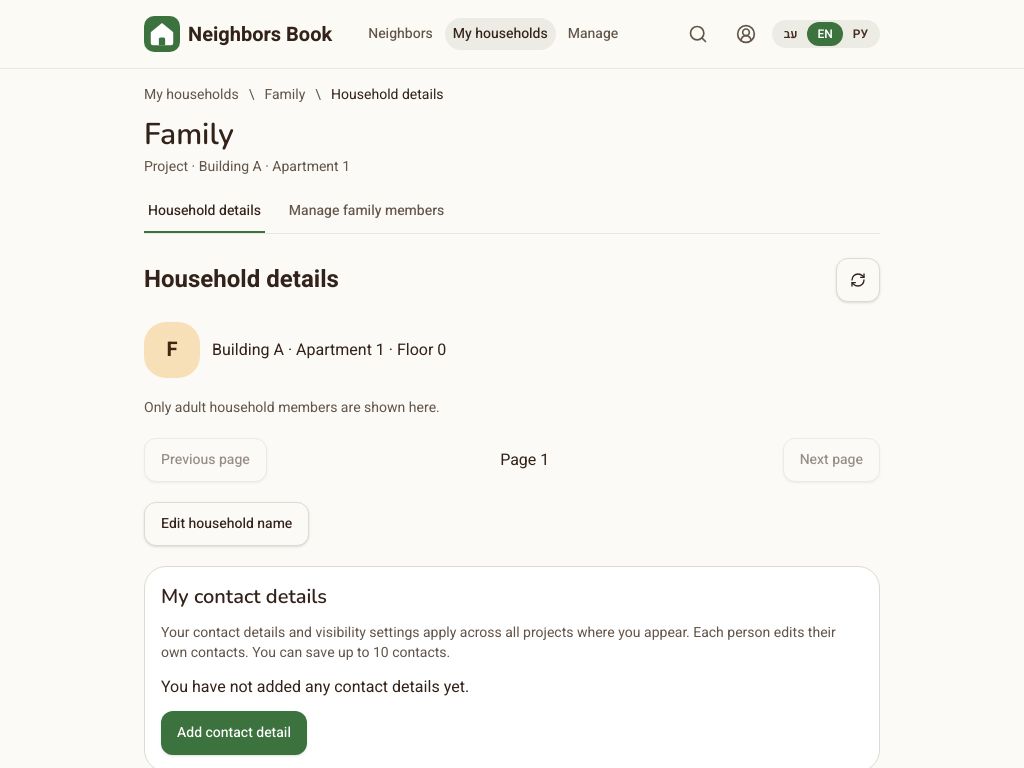
shares the detail read and updates the persistent heading after a successful rename
Expected: the number of headings "Family" is 1, [144,114,234,155]
Click the button "Edit household name".
click(227, 524)  # box [144,502,309,546]
(page scrolled)
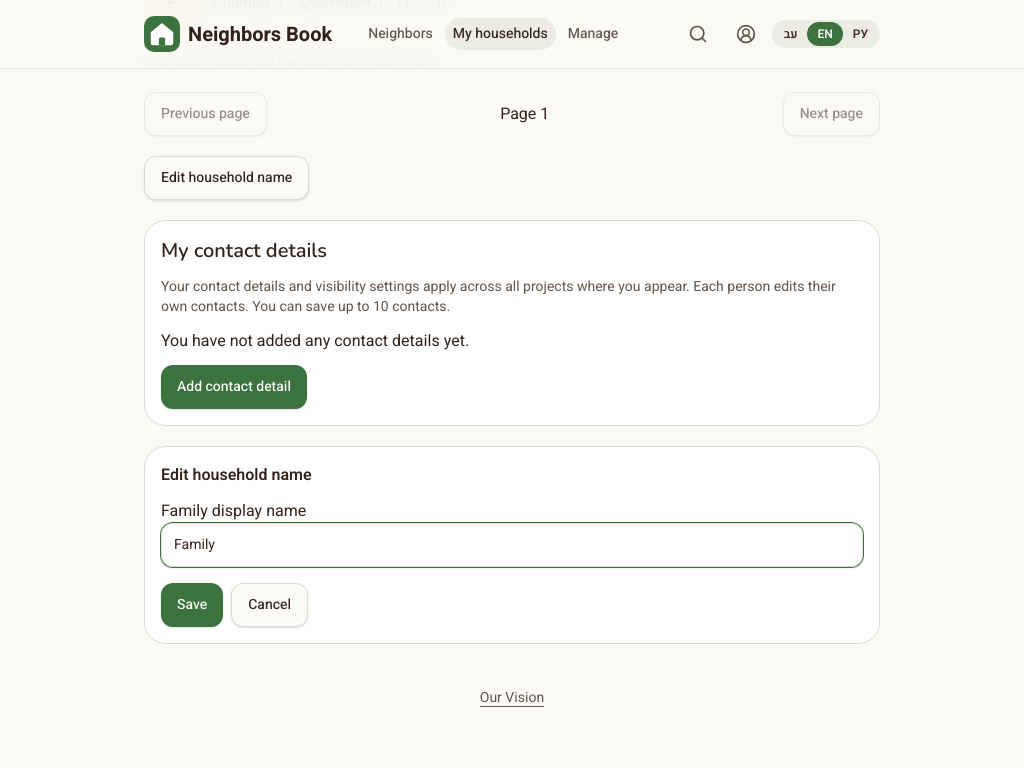
Replace the text in the field with "Updated family" at (512, 545), box [161,523,863,567]
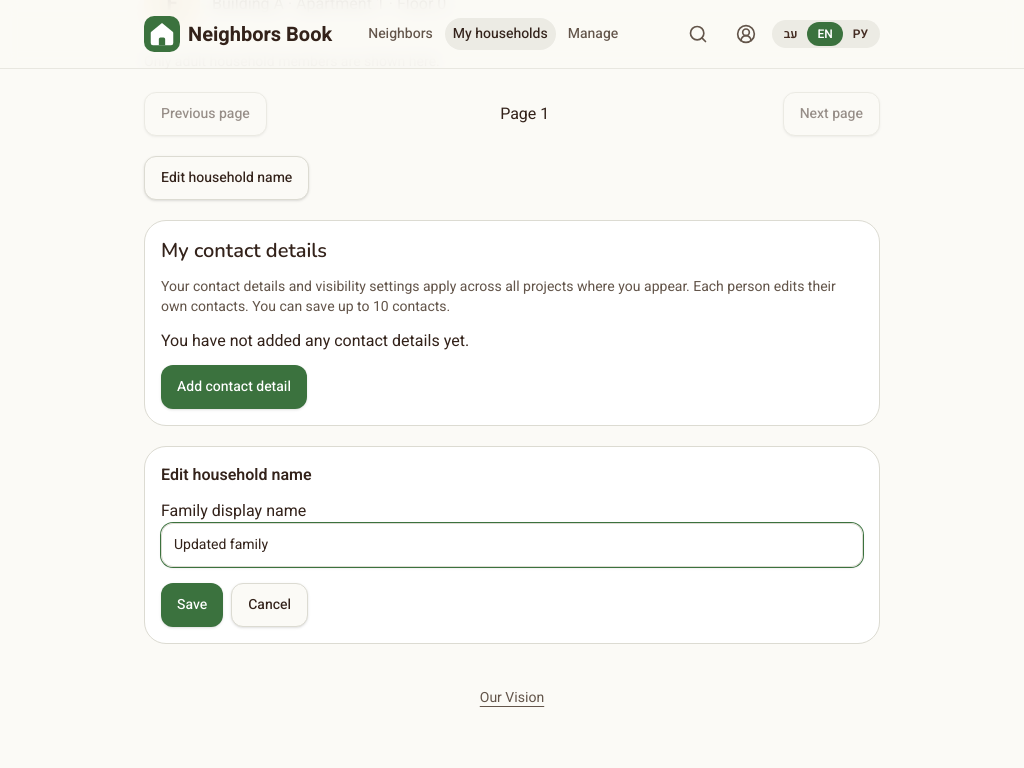
Click the button "Save".
click(192, 605)  # box [161,583,223,627]
(page scrolled)
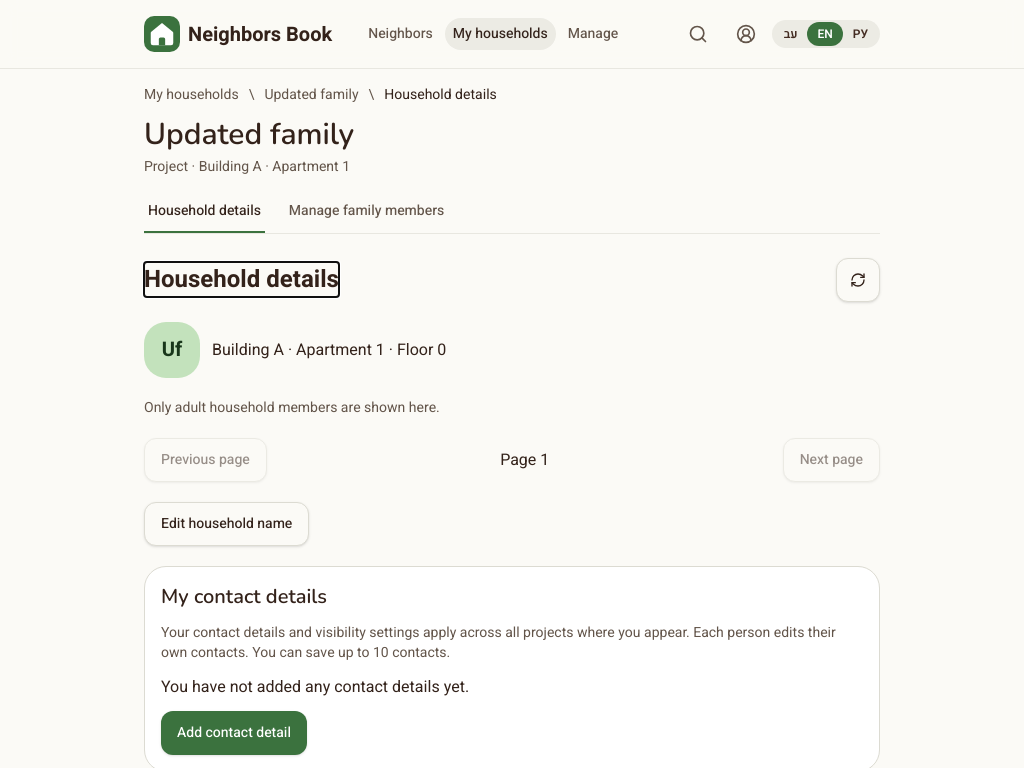
Result: the heading "Updated family" is shown at [144,114,354,155]
